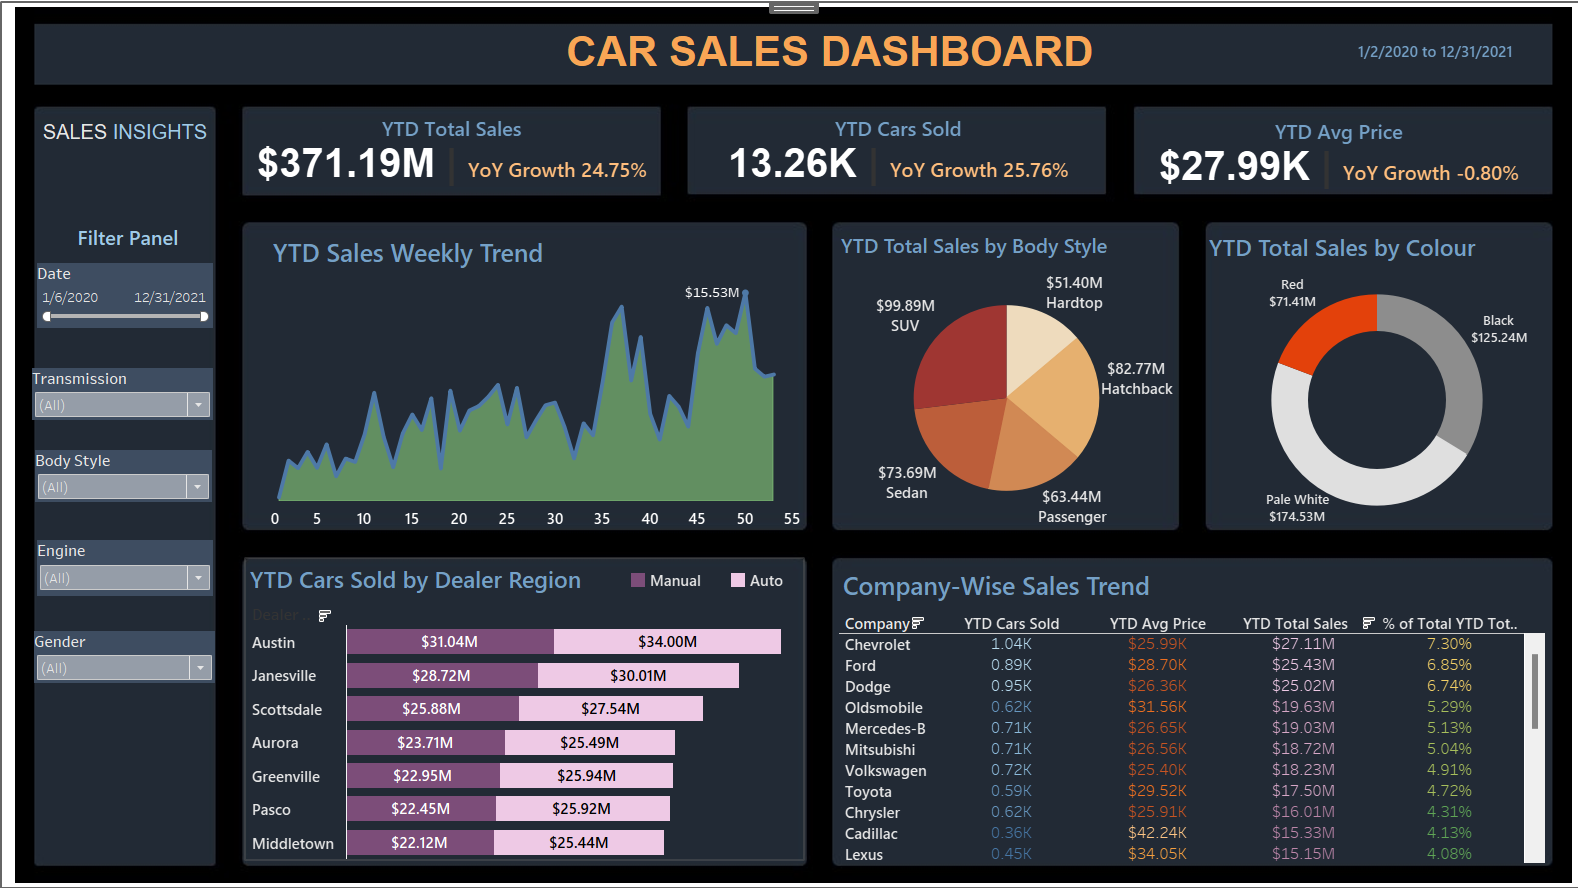

This screenshot's page, from the dashboard's own definition file:
{"tool":"tableau","page":{"name":"Dashboard 1","canvas":[1600,900],"ordinal":0},"visuals":[{"type":"image","param":"C:/Users/Anagha Ajit Gaikwad/Downloads/Car Sales Background.jpg","box":[8,8,1584,884]},{"type":"worksheet","title":"Date Range","mark":"Automatic","box":[1320,29,243,54]},{"type":"text","box":[535,33,602,47]},{"type":"worksheet","title":"YTD Cars Sold","mark":"Automatic","box":[697,113,416,85]},{"type":"worksheet","title":"YTD Avg Price","mark":"Automatic","box":[1136,115,420,87]},{"type":"worksheet","title":"YTD Total Sales","mark":"Automatic","box":[251,116,415,80]},{"type":"text","box":[45,122,172,30]},{"type":"text","box":[48,227,172,30]},{"type":"worksheet","title":"YTD Total Sales by Body Style","mark":"Pie","box":[843,232,339,300]},{"type":"worksheet","title":"YTD Total Sales by Colour","mark":"Pie","rows":["Calculation_709598452993585155","Calculation_709598452993728517"],"box":[1211,232,344,300]},{"type":"worksheet","title":"YTD Weekly","mark":"Area","rows":["Calculation_1173469213344239616","Calculation_1173469213344239616"],"cols":["Date"],"box":[275,236,533,300]},{"type":"filter","title":"YTD Weekly","param":"[federated.1330lsw0zlq7fc17h4uve029rieq].[none:Date:qk]","box":[43,268,176,65]},{"type":"filter","title":"YTD Weekly","param":"[federated.1330lsw0zlq7fc17h4uve029rieq].[none:Transmission:nk]","box":[38,373,181,52]},{"type":"filter","title":"YTD Weekly","param":"[federated.1330lsw0zlq7fc17h4uve029rieq].[none:Body Style:nk]","box":[41,455,177,52]},{"type":"filter","title":"YTD Weekly","param":"[federated.1330lsw0zlq7fc17h4uve029rieq].[none:Engine:nk]","box":[43,545,176,56]},{"type":"worksheet","title":"YTD Cars Sold by Dealer Region","mark":"Automatic","rows":["Dealer_Region"],"cols":["Calculation_1173469213344239616"],"box":[252,564,557,300]},{"type":"worksheet","title":"Company-Wise Sales Trend","mark":"Automatic","rows":["Company"],"box":[845,569,706,300]},{"type":"legend","title":"YTD Cars Sold by Dealer Region","param":"[federated.1330lsw0zlq7fc17h4uve029rieq].[none:Transmission:nk]","box":[634,575,214,64]},{"type":"filter","title":"YTD Weekly","param":"[federated.1330lsw0zlq7fc17h4uve029rieq].[none:Gender:nk]","box":[40,636,181,52]}]}

Visuals, with their boxes in screenshot pixels (x1, y1, x2, y2), scaled from the page's 1600x900 canvas onto the 1578x888 screenshot:
image: select_region(8, 8, 1570, 880)
"Date Range" worksheet: select_region(1302, 29, 1542, 82)
text: select_region(528, 33, 1121, 79)
"YTD Cars Sold" worksheet: select_region(687, 111, 1098, 195)
"YTD Avg Price" worksheet: select_region(1120, 113, 1535, 199)
"YTD Total Sales" worksheet: select_region(248, 114, 657, 193)
text: select_region(44, 120, 214, 150)
text: select_region(47, 224, 217, 254)
"YTD Total Sales by Body Style" worksheet (Pie marks): select_region(831, 229, 1166, 525)
"YTD Total Sales by Colour" worksheet (Pie marks): select_region(1194, 229, 1534, 525)
"YTD Weekly" worksheet (Area marks): select_region(271, 233, 797, 529)
"YTD Weekly" filter: select_region(42, 264, 216, 329)
"YTD Weekly" filter: select_region(37, 368, 216, 419)
"YTD Weekly" filter: select_region(40, 449, 215, 500)
"YTD Weekly" filter: select_region(42, 538, 216, 593)
"YTD Cars Sold by Dealer Region" worksheet: select_region(249, 556, 798, 852)
"Company-Wise Sales Trend" worksheet: select_region(833, 561, 1530, 857)
"YTD Cars Sold by Dealer Region" legend: select_region(625, 567, 836, 630)
"YTD Weekly" filter: select_region(39, 628, 218, 679)
